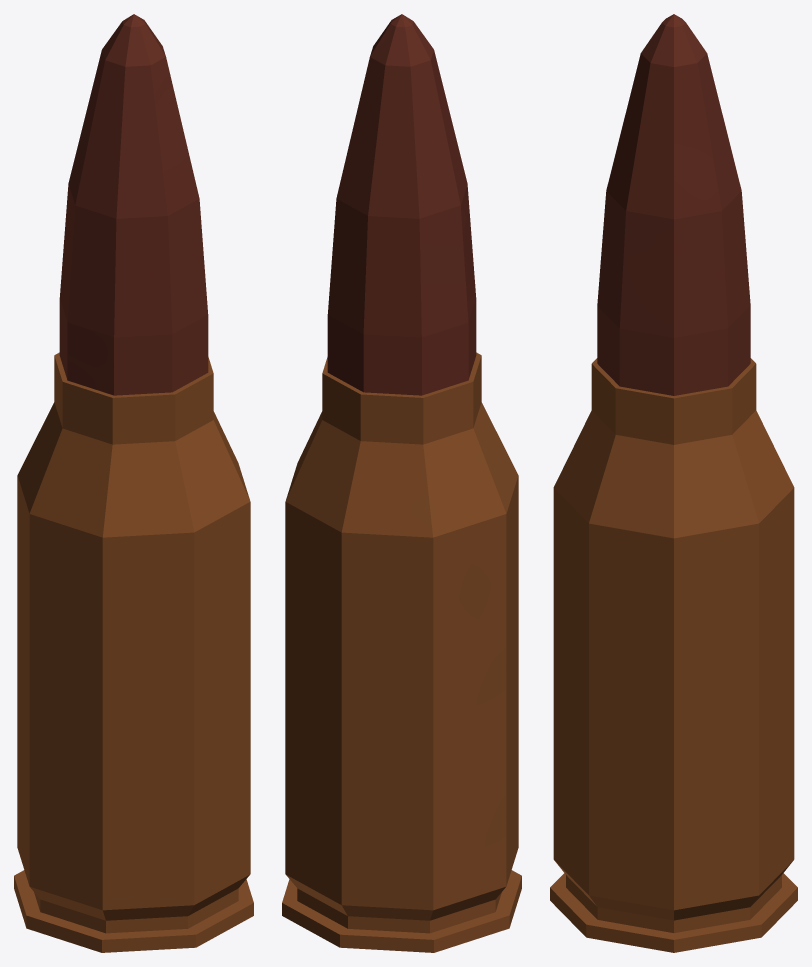
File: bullet.fbx
The picture shows the model from 3 angles, left to right: view 1: azimuth 30°, elevation 25°; view 2: azimuth 150°, elevation 25°; view 3: azimuth 270°, elevation 25°; orthographic projection.
Parts seen in each view (by area): view 1: Bullet; view 2: Bullet; view 3: Bullet.
Part boxes in pixels (x1,y1,x2,y2): Bullet: (14,14,253,952); Bullet: (282,14,521,952); Bullet: (550,14,797,952).
Size of the model in its own units: 200 by 789 by 200.
